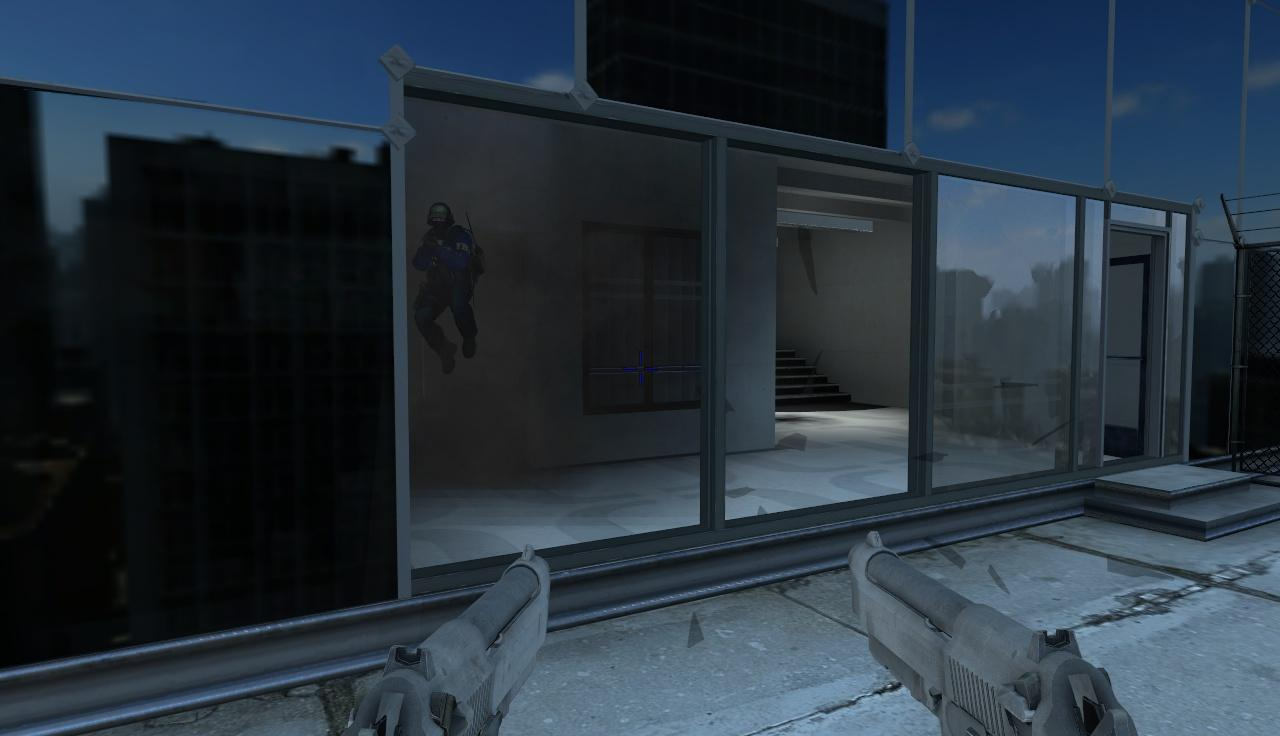ct: (414, 201, 479, 352)
cthead: (427, 203, 451, 231)
pistol: (842, 526, 1138, 736)
